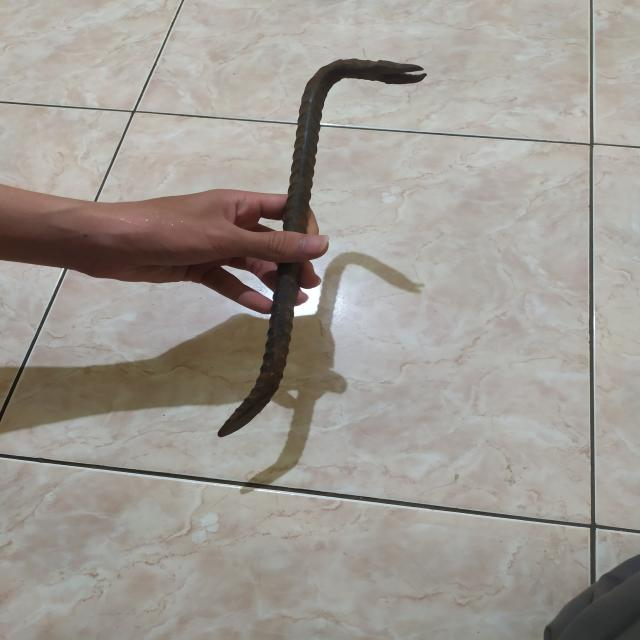Linggis: (210, 56, 430, 438)
